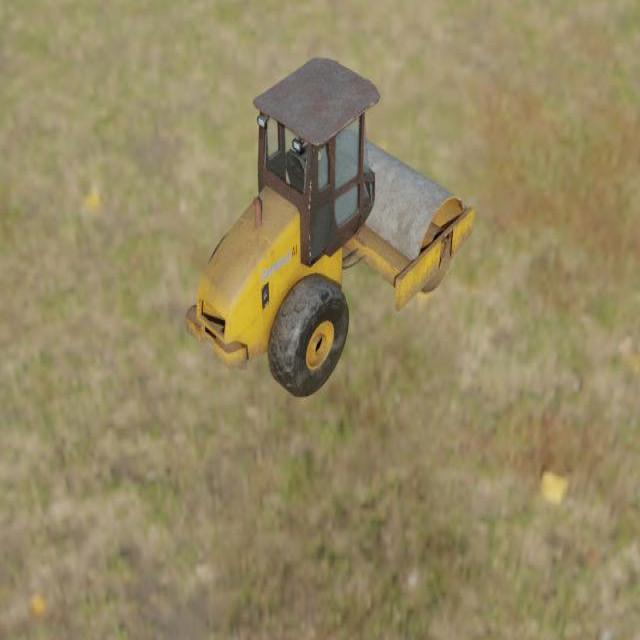Roller: (184, 56, 474, 397)
